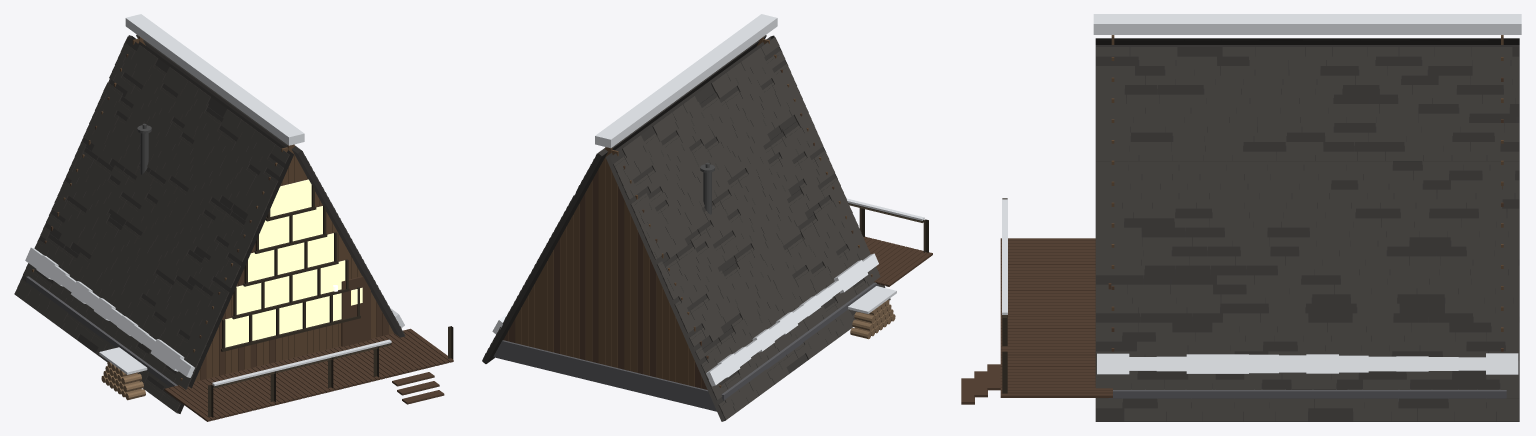
The model's file is cabin.glb.
3 views of the same model, side by side, from view 1: azimuth 30°, elevation 25°; view 2: azimuth 150°, elevation 25°; view 3: azimuth 270°, elevation 25° (orthographic). The views are drawn at different scales.
Parts seen in each view (by area): view 1: Cabin_roof, Cabin_plank2, Cabin_glass, Cabin_roof2, Cabin_snow, Cabin_trim, Cabin_plank, Cabin_stone, Cabin_wood, Cabin_metal; view 2: Cabin_roof, Cabin_plank, Cabin_roof2, Cabin_snow, Cabin_plank2, Cabin_stone, Cabin_wood, Cabin_trim, Cabin_metal; view 3: Cabin_roof, Cabin_roof2, Cabin_snow, Cabin_plank2, Cabin_stone.
Boxes of the visible parts, x1=… form: Cabin_roof: x1=14, y1=43, x2=405, y2=412; Cabin_plank2: x1=44, y1=54, x2=453, y2=421; Cabin_glass: x1=225, y1=179, x2=362, y2=347; Cabin_roof2: x1=20, y1=34, x2=404, y2=413; Cabin_snow: x1=25, y1=14, x2=404, y2=386; Cabin_trim: x1=208, y1=185, x2=453, y2=417; Cabin_plank: x1=32, y1=36, x2=393, y2=381; Cabin_stone: x1=26, y1=276, x2=177, y2=387; Cabin_wood: x1=101, y1=361, x2=145, y2=400; Cabin_metal: x1=137, y1=123, x2=151, y2=174; Cabin_roof: x1=482, y1=37, x2=890, y2=419; Cabin_plank: x1=515, y1=37, x2=872, y2=387; Cabin_roof2: x1=482, y1=35, x2=885, y2=421; Cabin_snow: x1=492, y1=14, x2=924, y2=386; Cabin_plank2: x1=503, y1=69, x2=932, y2=389; Cabin_stone: x1=493, y1=282, x2=878, y2=411; Cabin_wood: x1=850, y1=299, x2=895, y2=339; Cabin_trim: x1=848, y1=203, x2=928, y2=252; Cabin_metal: x1=700, y1=162, x2=714, y2=214; Cabin_roof: x1=1096, y1=39, x2=1519, y2=421; Cabin_roof2: x1=1095, y1=38, x2=1519, y2=421; Cabin_snow: x1=1002, y1=14, x2=1521, y2=374; Cabin_plank2: x1=961, y1=77, x2=1503, y2=404; Cabin_stone: x1=1108, y1=389, x2=1506, y2=400.
Size of the model in its own units: 9.41 by 8.4 by 12.96.
